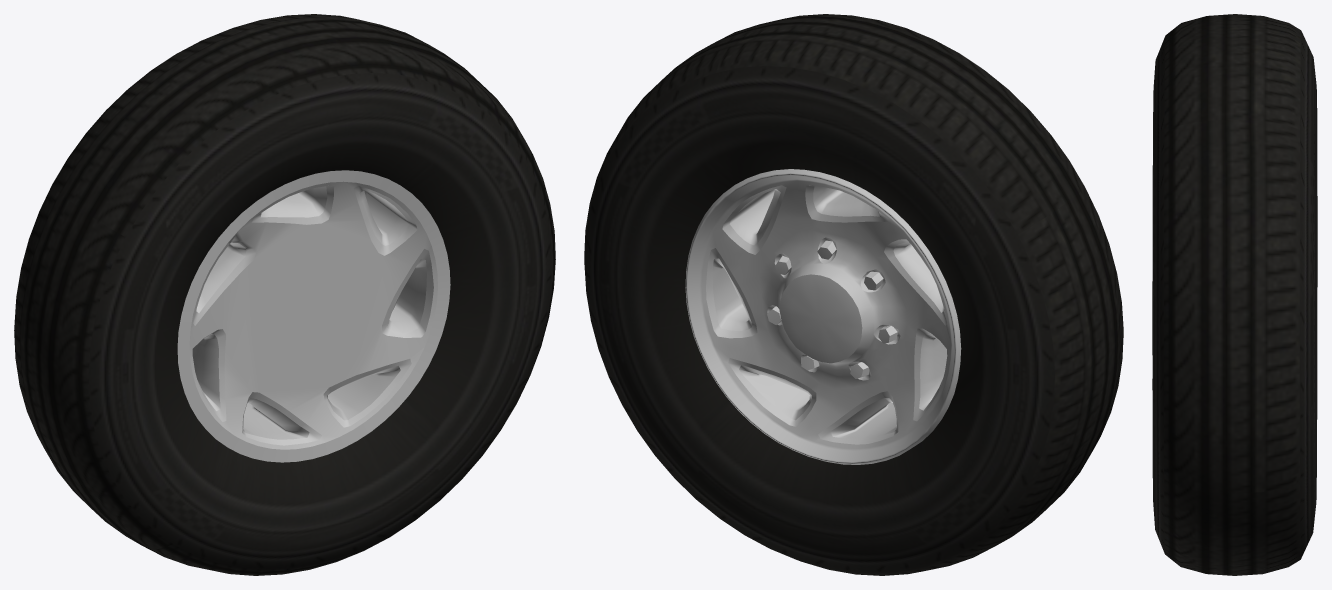
3 views of the same model, side by side, from view 1: azimuth 30°, elevation 25°; view 2: azimuth 150°, elevation 25°; view 3: azimuth 270°, elevation 25° (orthographic). The views are drawn at different scales.
Parts seen in each view (by area): view 1: P615_5A_901B_L_2_DM_P615_5A_901B_L, P615_5A_901B_L_P615_5A_901B_L_1_DaS; view 2: P615_5A_901B_L_2_DM_P615_5A_901B_L, P615_5A_901B_L_P615_5A_901B_L_1_DaS; view 3: P615_5A_901B_L_2_DM_P615_5A_901B_L.
Boxes of the visible parts, x1,y1,x2,y2 form: P615_5A_901B_L_2_DM_P615_5A_901B_L: [14, 14, 555, 575]; P615_5A_901B_L_P615_5A_901B_L_1_DaS: [177, 170, 450, 462]; P615_5A_901B_L_2_DM_P615_5A_901B_L: [584, 14, 1123, 575]; P615_5A_901B_L_P615_5A_901B_L_1_DaS: [685, 169, 961, 464]; P615_5A_901B_L_2_DM_P615_5A_901B_L: [1152, 14, 1317, 575].
Size of the model in its own units: 86.09 by 86.09 by 25.29.
